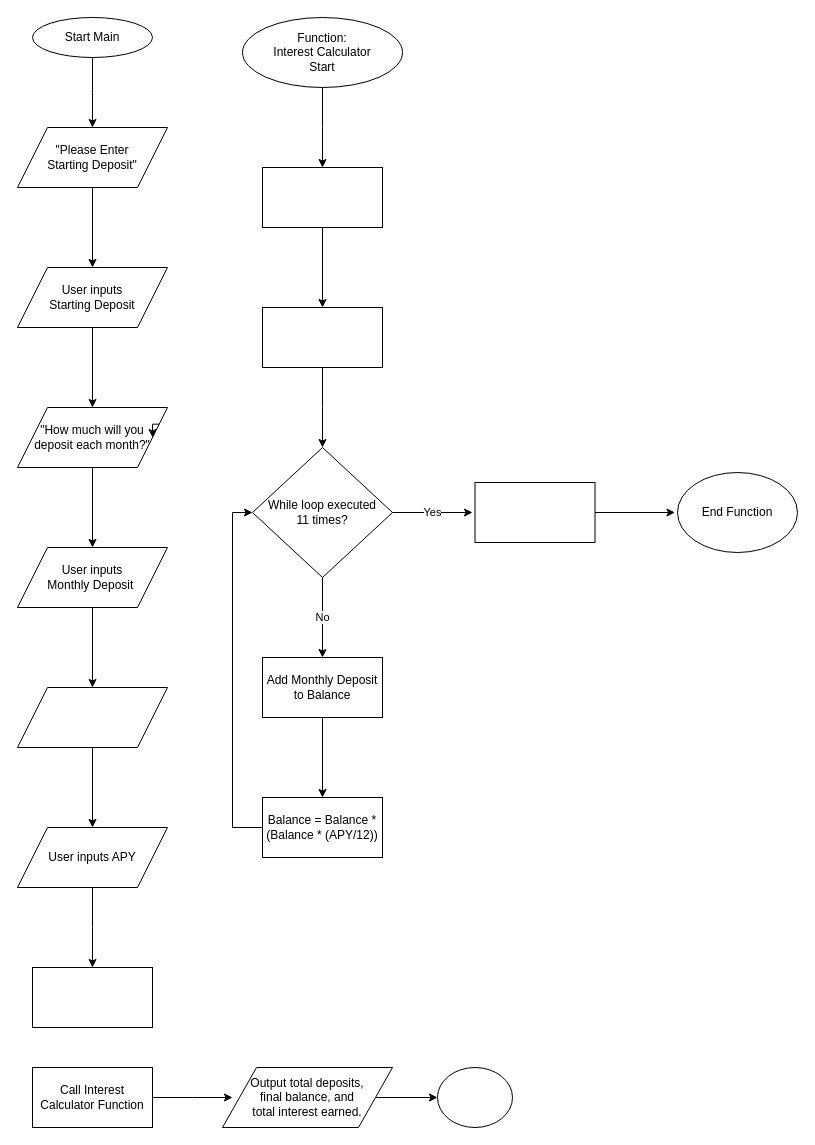
Image size: 815x1145. Some labels were removed from this diagram. The centre of each missing label's shape, as x and y in pixels:
"What is the APY (Annual Percentage Yield)?": (92,717)
Balance = Balance + (Balance * (APY/12): (322,337)
Balance = Starting Deposit: (322,197)
End Main: (474,1097)
Return Balance, Total Interest Earned: (534,512)
Total Deposits = Starting Deposit + (Monthly Deposits * 11): (92,997)
